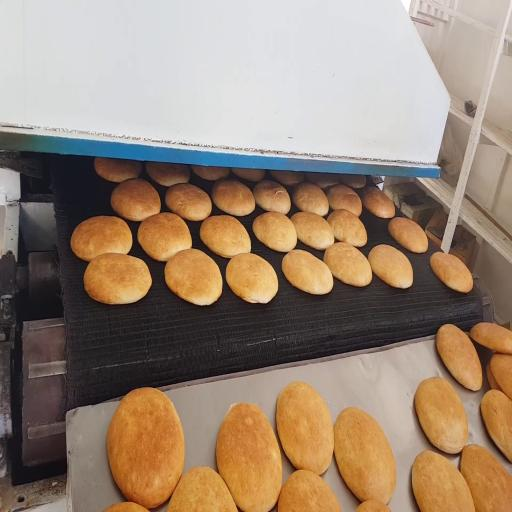bread: (107, 388, 184, 508), (216, 403, 282, 511), (334, 408, 396, 503), (276, 382, 334, 475), (415, 377, 468, 454), (412, 451, 474, 511), (84, 253, 151, 304), (461, 445, 511, 511), (165, 249, 222, 305), (436, 324, 482, 391), (167, 467, 237, 511), (71, 216, 132, 261), (226, 253, 278, 303), (278, 470, 341, 511), (138, 213, 191, 261), (282, 249, 333, 294), (481, 390, 511, 462), (111, 178, 161, 221), (324, 243, 372, 286), (200, 216, 250, 257), (368, 245, 413, 288), (253, 212, 297, 252), (165, 183, 211, 221), (430, 252, 473, 292), (291, 212, 334, 250), (212, 180, 255, 216), (327, 210, 367, 247), (388, 218, 428, 253), (470, 323, 511, 354), (292, 182, 329, 216), (253, 180, 290, 214), (94, 157, 142, 182), (327, 185, 362, 216), (146, 162, 190, 186), (363, 187, 395, 218), (490, 354, 511, 399), (191, 165, 229, 181), (306, 173, 339, 189), (270, 171, 304, 185), (232, 168, 265, 182), (487, 363, 501, 391), (104, 502, 147, 511), (356, 500, 391, 511), (340, 174, 366, 188)
